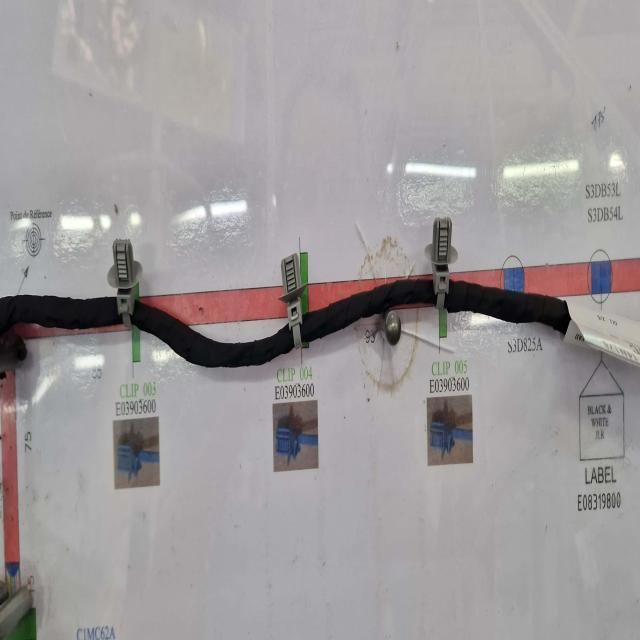Clip: (108, 236, 143, 326), (425, 220, 457, 313), (278, 258, 307, 353)
Info: (564, 296, 640, 367)
MHEV_N11_Cable: (131, 299, 294, 367), (305, 286, 442, 352), (451, 281, 579, 338), (0, 296, 125, 339)
